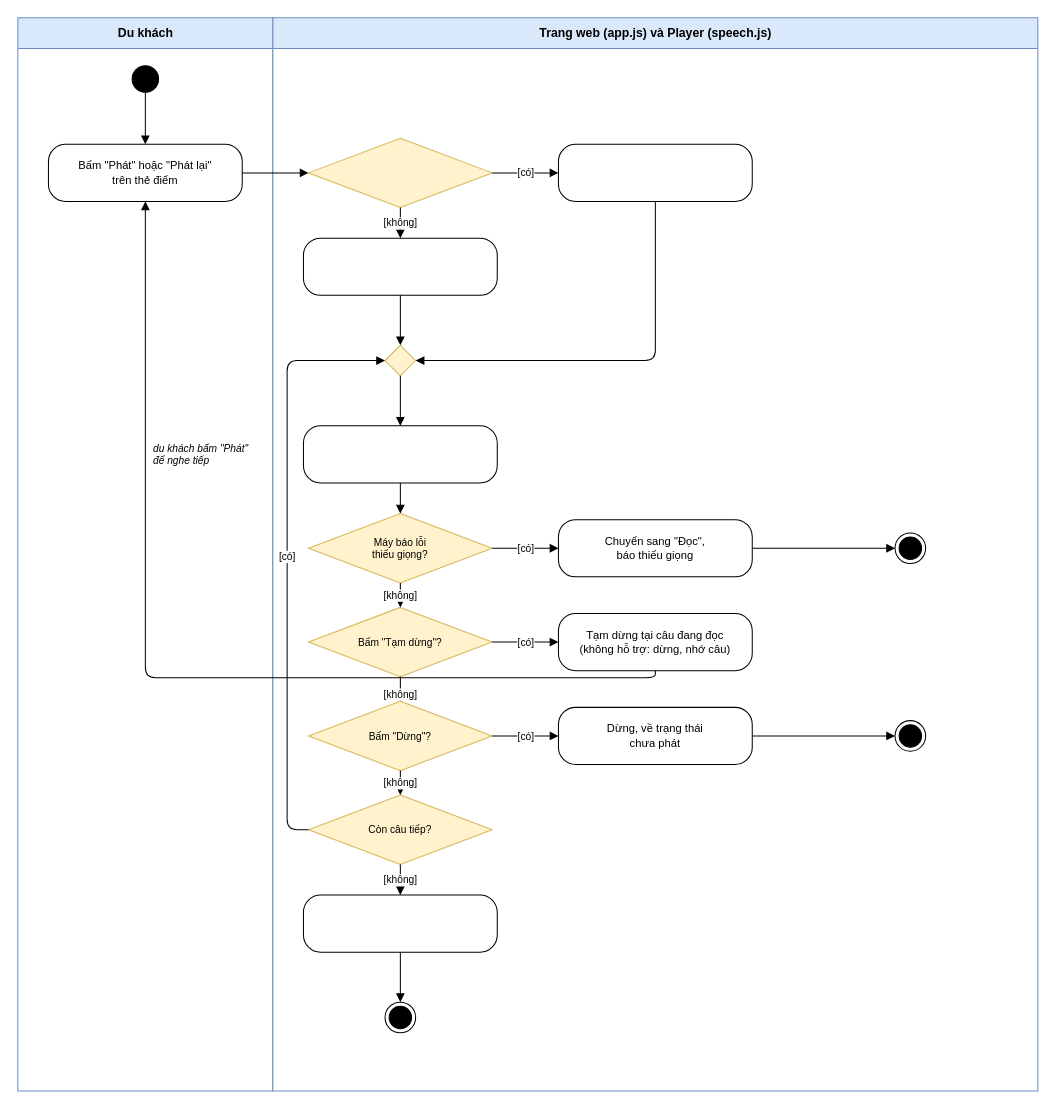
Some shapes in this 1056 by 1109 pixel diagram are drawn without their labels. The box of each missing label's shape, as (x1, y1, x2, y2) in pixels:
Dừng âm thanh cũ, chia nội dung thành câu, về câu đầu: (302, 237, 497, 295)
Phát tiếp từ chỗ dừng: (557, 143, 752, 201)
Đang tạm dừng điểm này và bấm Phát?: (308, 137, 492, 208)
Đọc câu hiện tại bằng giọng của ngôn ngữ đang chọn: (302, 425, 497, 483)
Đọc xong, về trạng thái chưa phát: (302, 894, 497, 952)
